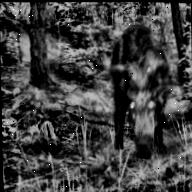boar: (102, 6, 178, 173)
